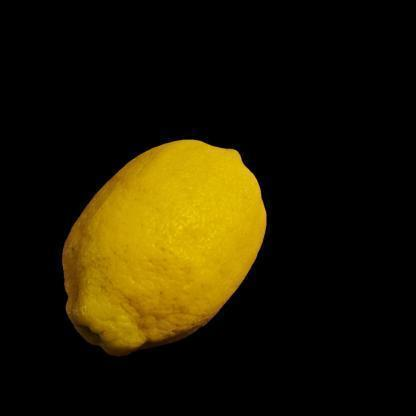lemon: (61, 139, 267, 357)
